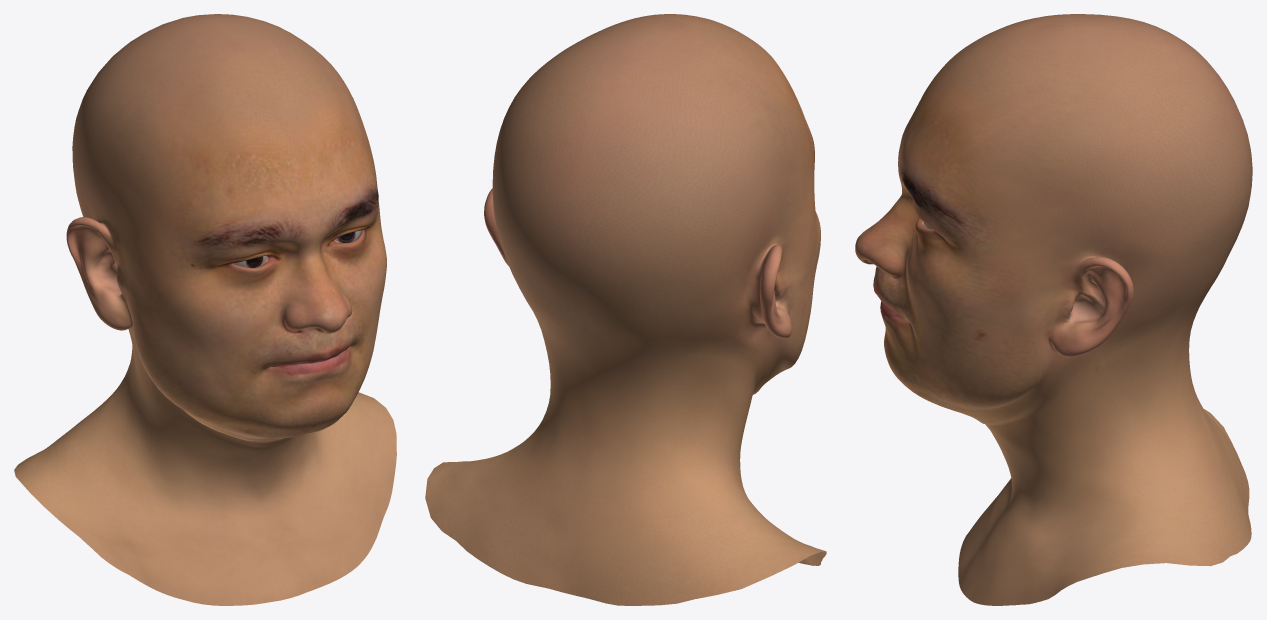
3 renders of one model, left to right at view 1: azimuth 30°, elevation 25°; view 2: azimuth 150°, elevation 25°; view 3: azimuth 270°, elevation 25°, orthographic. The views are drawn at different scales.
Visible parts, largest first — view 1: Registered head; view 2: Registered head; view 3: Registered head.
Part boxes in pixels (x1=…): Registered head: x1=14, y1=14, x2=396, y2=605; Registered head: x1=425, y1=14, x2=826, y2=605; Registered head: x1=855, y1=14, x2=1252, y2=605.
Bounding box in the file's own units: 1.28 × 1.81 × 1.2.
3 materials, 3 textured.
